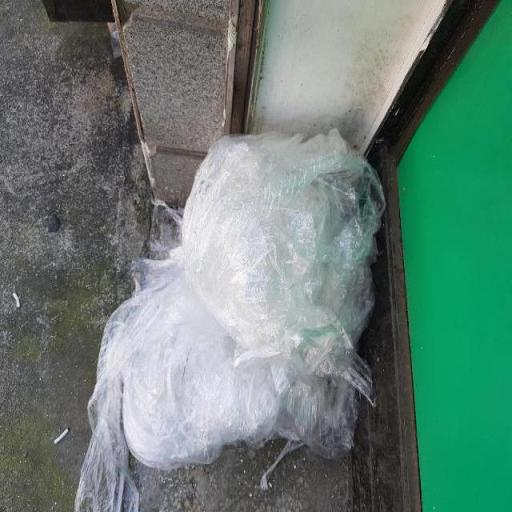plastic-bag: (93, 122, 390, 476)
